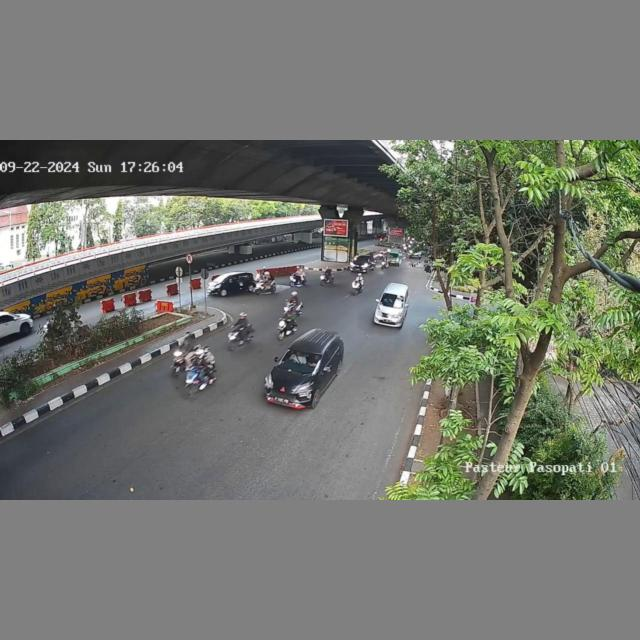windshield: (279, 348, 323, 373), (381, 293, 404, 309)
